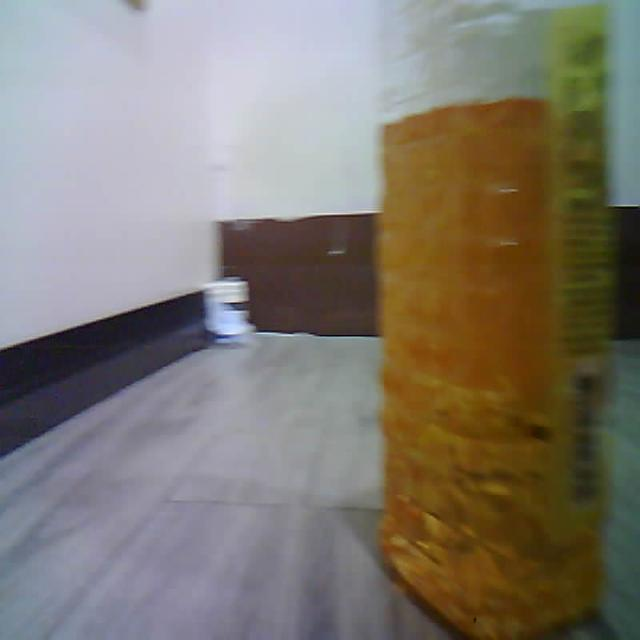bottle: (377, 0, 615, 639)
